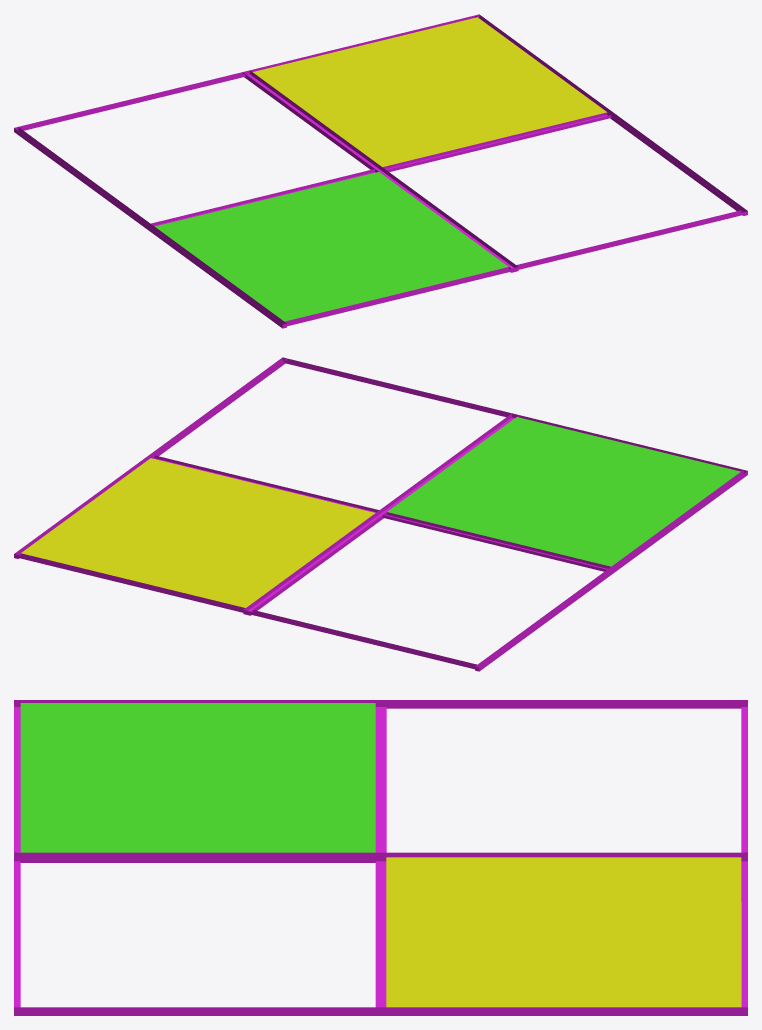
The model's file is Lockerroomroof.fbx.
The picture shows the model from 3 angles, top to bottom: view 1: azimuth 30°, elevation 25°; view 2: azimuth 150°, elevation 25°; view 3: azimuth 270°, elevation 25°; orthographic projection. The views are drawn at different scales.
Parts seen in each view (by area): view 1: Lockerroomrooftilepart.001, Lockerroomrooftilepart.002, Lockerroomrooftilepart; view 2: Lockerroomrooftilepart.001, Lockerroomrooftilepart.002, Lockerroomrooftilepart; view 3: Lockerroomrooftilepart.001, Lockerroomrooftilepart.002, Lockerroomrooftilepart.
Boxes of the visible parts, bbox=[...] form: Lockerroomrooftilepart.001: bbox=[253, 17, 606, 166]; Lockerroomrooftilepart.002: bbox=[155, 172, 508, 321]; Lockerroomrooftilepart: bbox=[14, 14, 747, 328]; Lockerroomrooftilepart.001: bbox=[21, 458, 375, 607]; Lockerroomrooftilepart.002: bbox=[387, 417, 740, 566]; Lockerroomrooftilepart: bbox=[14, 357, 747, 671]; Lockerroomrooftilepart.001: bbox=[386, 857, 741, 1007]; Lockerroomrooftilepart.002: bbox=[20, 703, 375, 852]; Lockerroomrooftilepart: bbox=[14, 700, 747, 1015].
Bounding box in the file's own units: 200 × 1.69 × 200.
